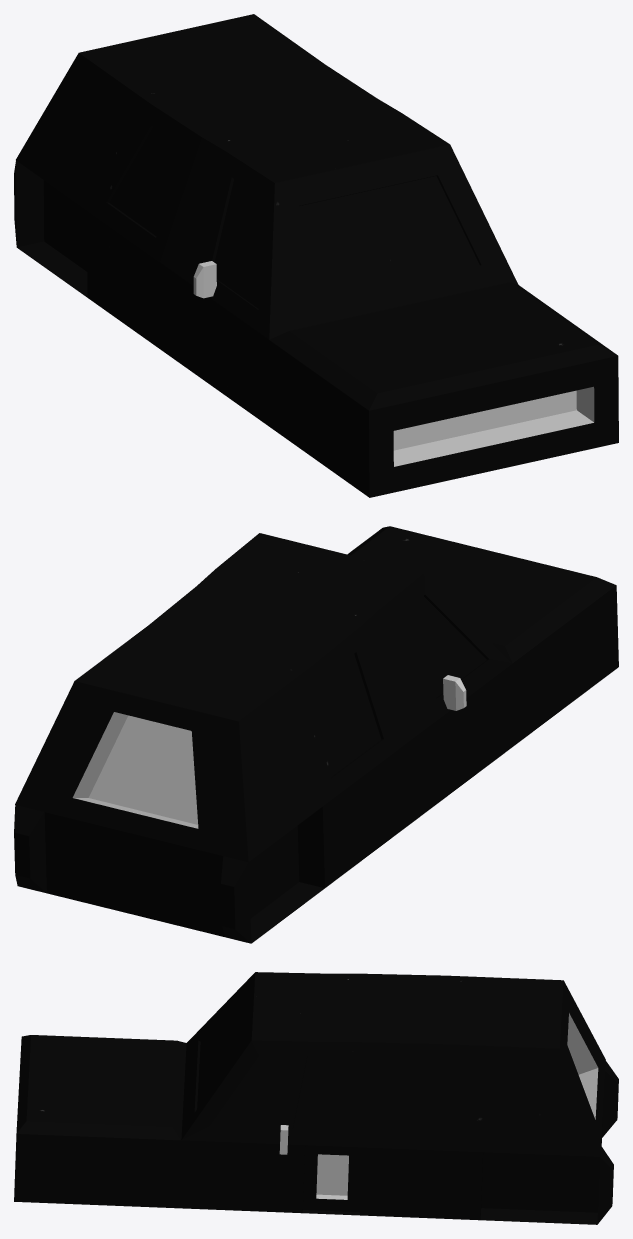
The model's file is CARRO.fbx.
3 views of the same model, one above another, from view 1: azimuth 30°, elevation 25°; view 2: azimuth 150°, elevation 25°; view 3: azimuth 270°, elevation 25° (orthographic). The views are drawn at different scales.
Parts seen in each view (by area): view 1: Carro; view 2: Carro; view 3: Carro.
Boxes of the visible parts, x1=… form: Carro: x1=14, y1=14, x2=618, y2=497; Carro: x1=14, y1=526, x2=618, y2=943; Carro: x1=14, y1=972, x2=618, y2=1224.
Bounding box in the file's own units: 169 × 126 × 400.
